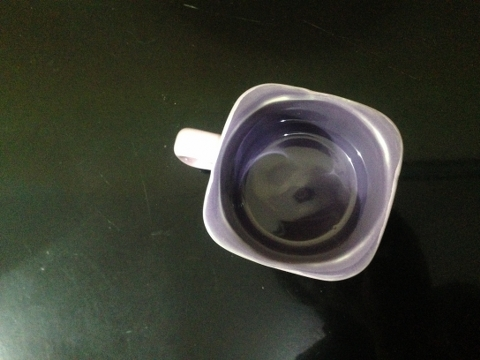tempat minum: (173, 83, 403, 281)
